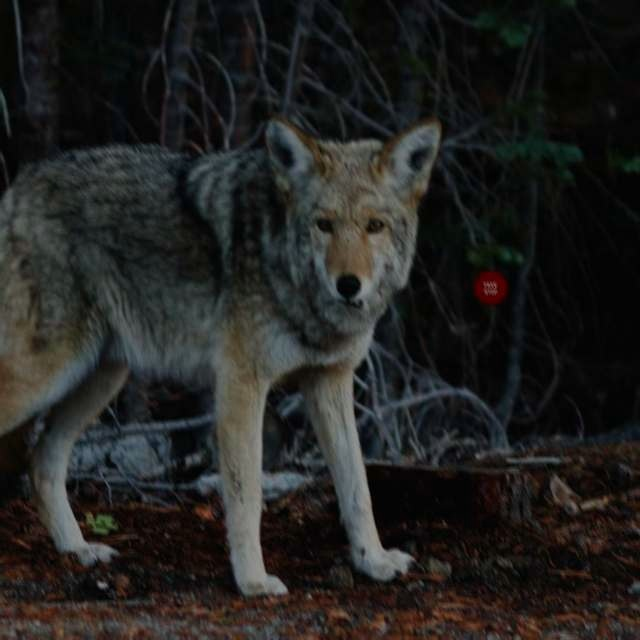FAKE_STOP: (473, 271, 508, 306)
GO_AROUND: (84, 514, 119, 536)
